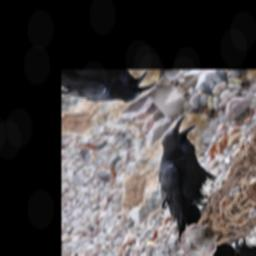Crow: (117, 114, 249, 246)
